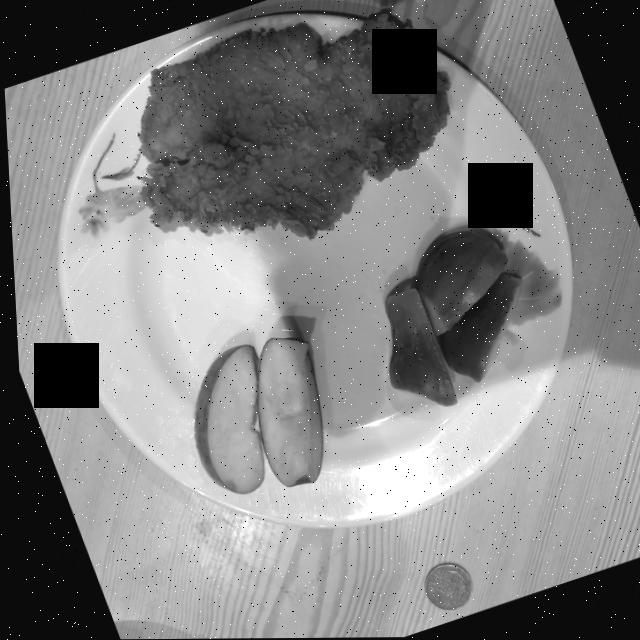apple -sliced-: (189, 337, 318, 494)
coin: (418, 563, 466, 610)
fried chicken cutlet: (138, 14, 449, 238)
